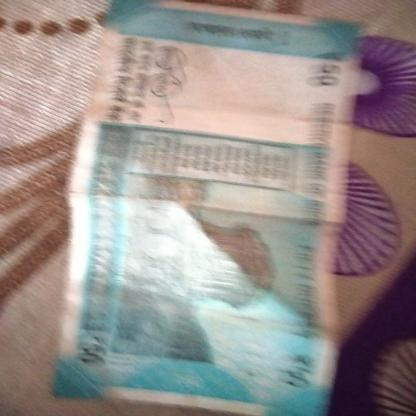New50Back: (81, 7, 322, 415)
